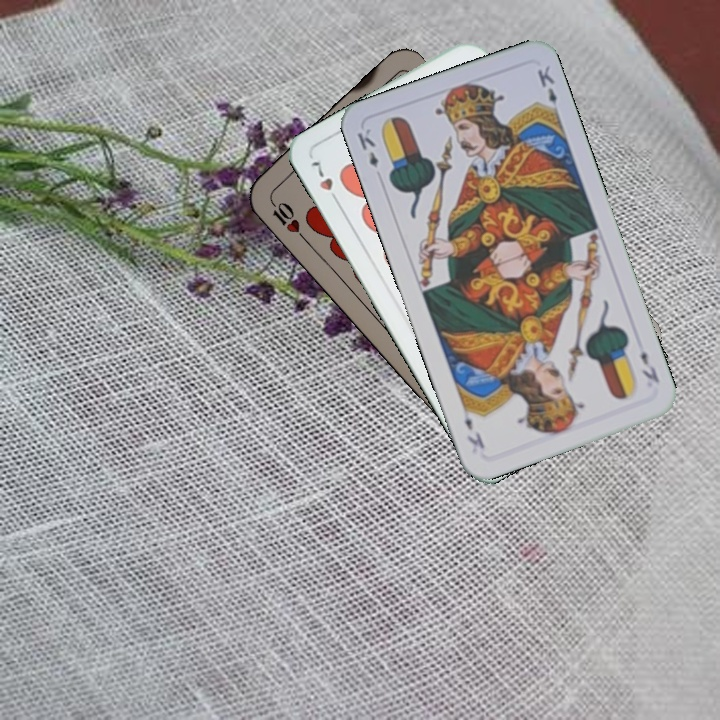EK: (353, 124, 381, 170), (636, 347, 662, 386)
H10: (265, 193, 308, 243)
H7: (307, 157, 343, 208)
